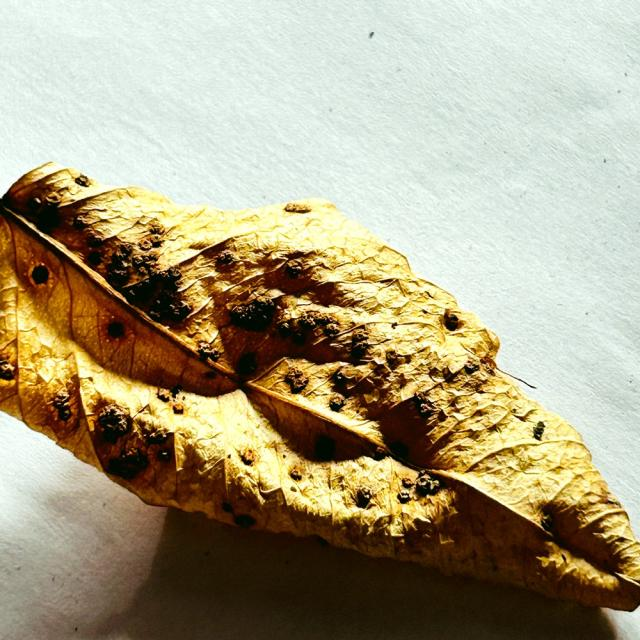DryLeaf_Lemon: (0, 162, 639, 610)
